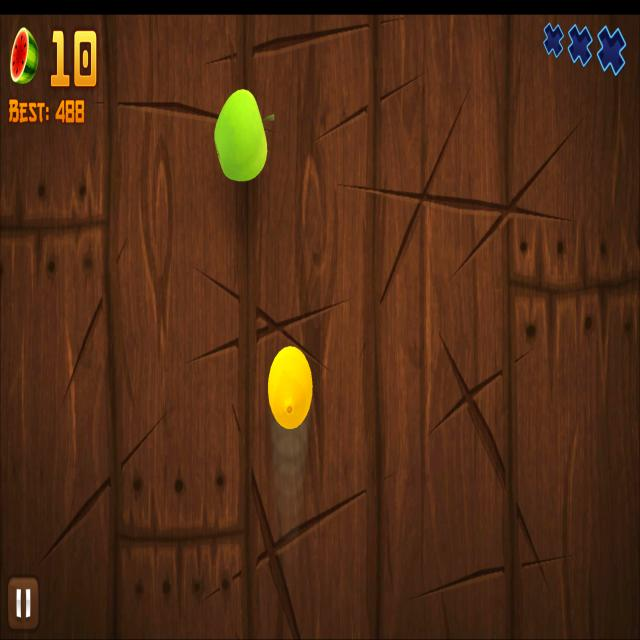fruit: (213, 88, 268, 182), (268, 345, 313, 430)
